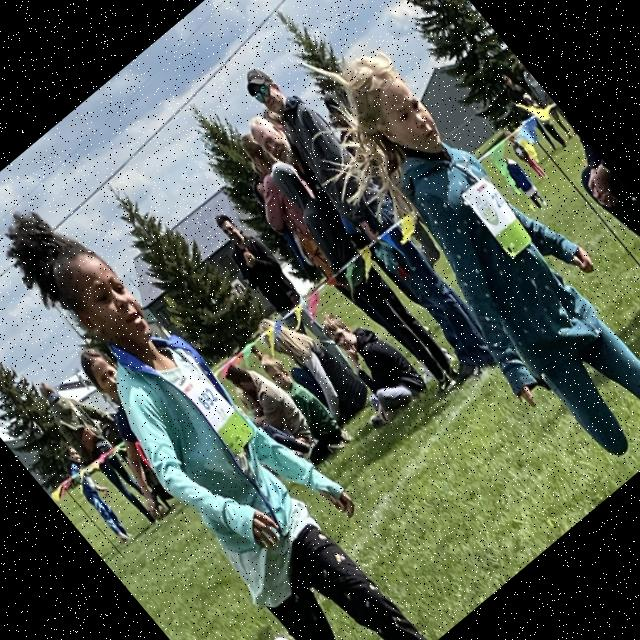Person: (0, 165, 456, 640), (282, 24, 640, 500), (230, 51, 522, 385), (27, 362, 179, 530), (298, 292, 430, 432), (238, 344, 355, 470), (52, 444, 142, 544)
